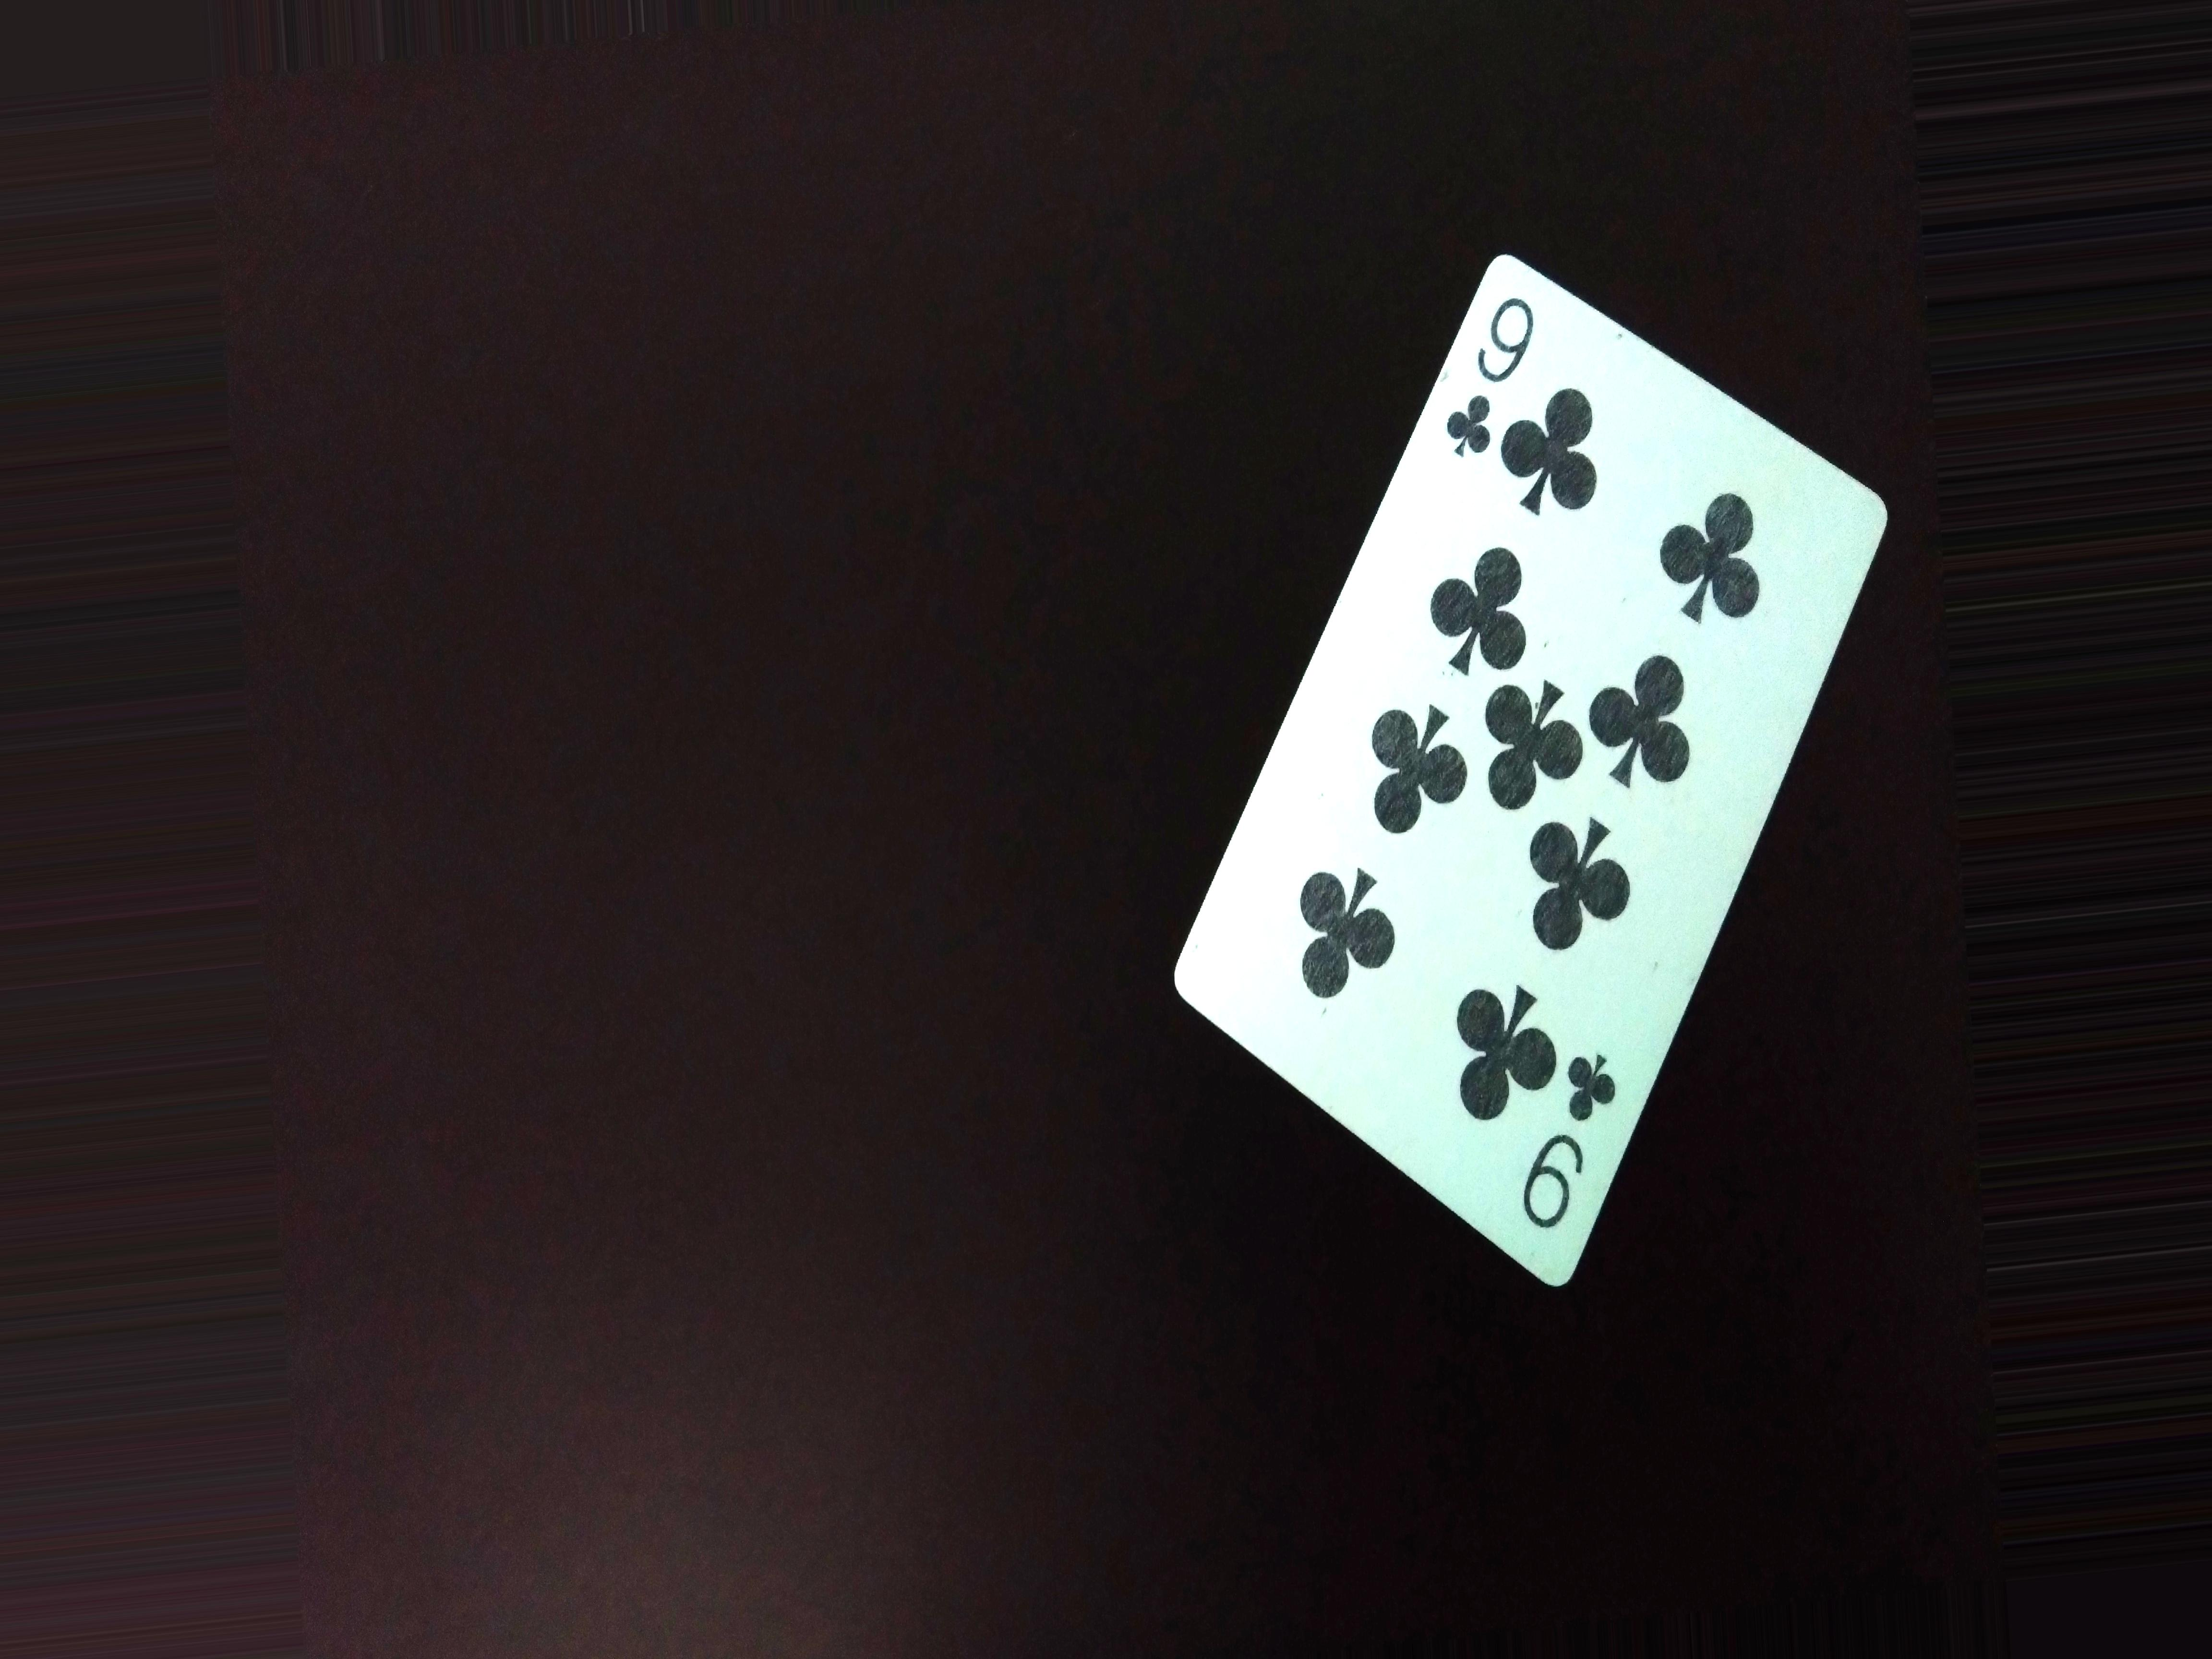9C: (1439, 272, 1559, 474)
